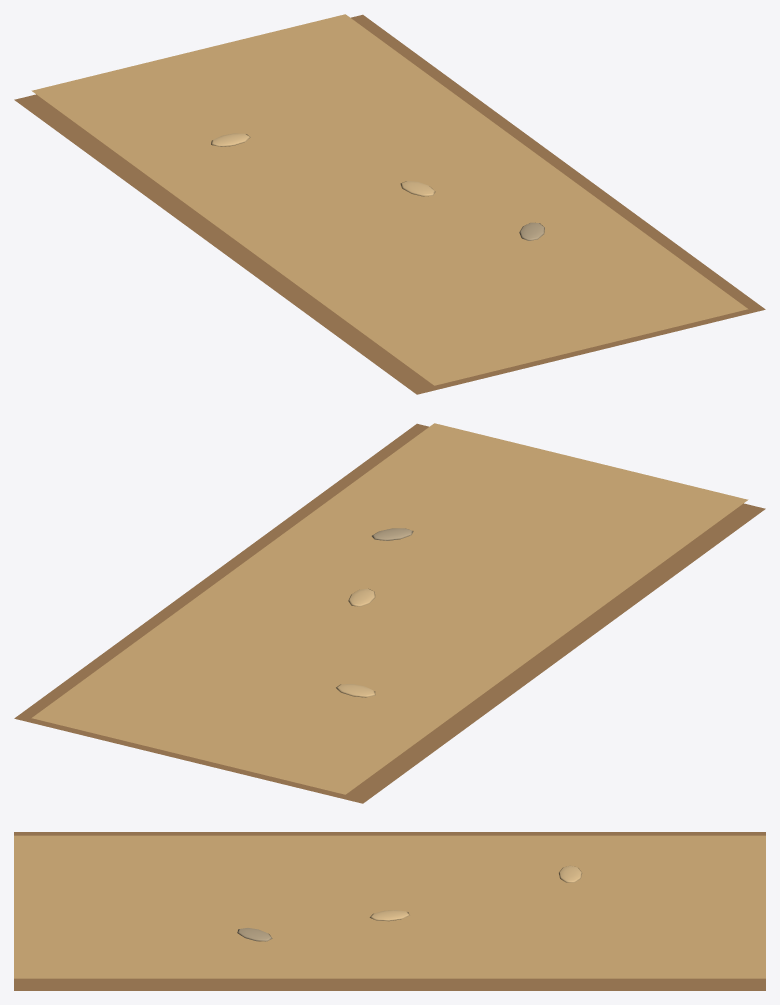
Rendered from road-straight.glb.
3 renders of one model, top to bottom at view 1: azimuth 30°, elevation 25°; view 2: azimuth 150°, elevation 25°; view 3: azimuth 270°, elevation 25°, orthographic. The views are drawn at different scales.
Parts seen in each view (by area): view 1: road-straight_dirt, road-straight_dirtEdge, road-straight_dirtLight; view 2: road-straight_dirt, road-straight_dirtEdge, road-straight_dirtLight; view 3: road-straight_dirt, road-straight_dirtEdge, road-straight_dirtLight, road-straight_pebble.
Boxes of the visible parts, bbox=[...] form: road-straight_dirt: bbox=[31, 14, 748, 385]; road-straight_dirtEdge: bbox=[14, 14, 765, 394]; road-straight_dirtLight: bbox=[211, 133, 435, 196]; road-straight_dirt: bbox=[31, 423, 748, 794]; road-straight_dirtEdge: bbox=[14, 423, 765, 803]; road-straight_dirtLight: bbox=[336, 588, 375, 697]; road-straight_dirt: bbox=[14, 835, 765, 978]; road-straight_dirtEdge: bbox=[14, 832, 765, 990]; road-straight_dirtLight: bbox=[369, 865, 582, 921]; road-straight_pebble: bbox=[237, 928, 272, 941].
Size of the model in its own units: 1 by 0.0314 by 2.
